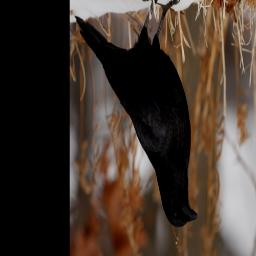Crow: (74, 0, 201, 233)
